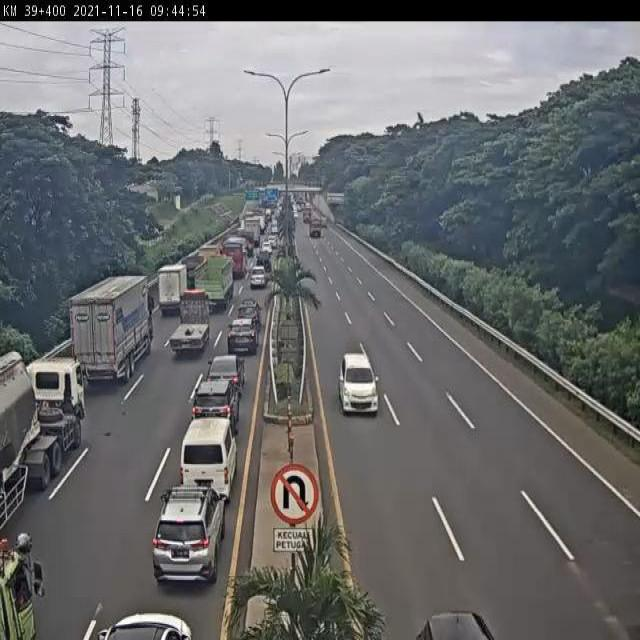big bus: (214, 240, 244, 284)
car: (152, 488, 224, 584), (188, 382, 236, 446), (338, 352, 381, 417), (205, 355, 242, 397), (223, 321, 255, 360), (235, 298, 262, 330), (247, 266, 268, 294)
small bus: (180, 419, 235, 500)
truck-l-: (73, 275, 153, 384), (192, 257, 234, 312)
truck-m-: (168, 295, 210, 356), (156, 261, 190, 315), (177, 253, 206, 296)
truck-xl-: (0, 341, 90, 539)
